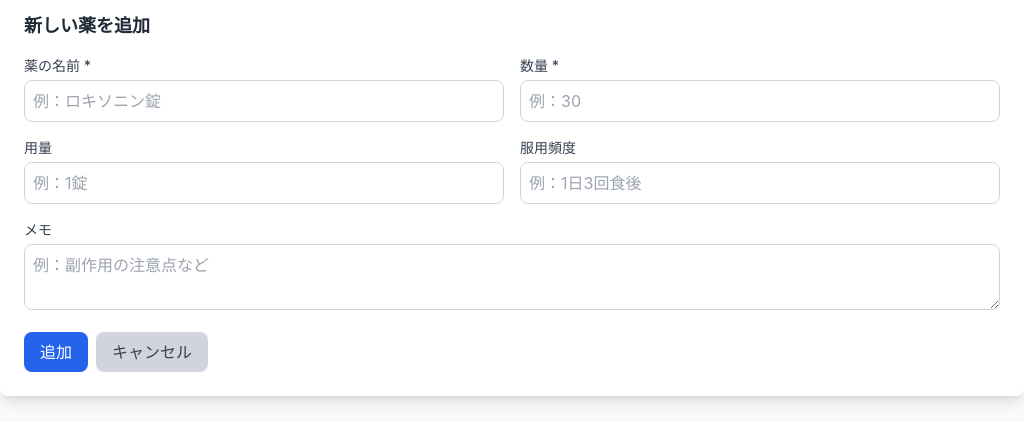
Test: AddMedicineForm › フォーム送信 › 追加成功時にフォームがリセットされる
The width and height of the screenshot is (1024, 422).
// フォームに入力 
Type "テスト薬" into the field with placeholder "例：ロキソニン錠" at point(264, 101), box [24,80,504,122]
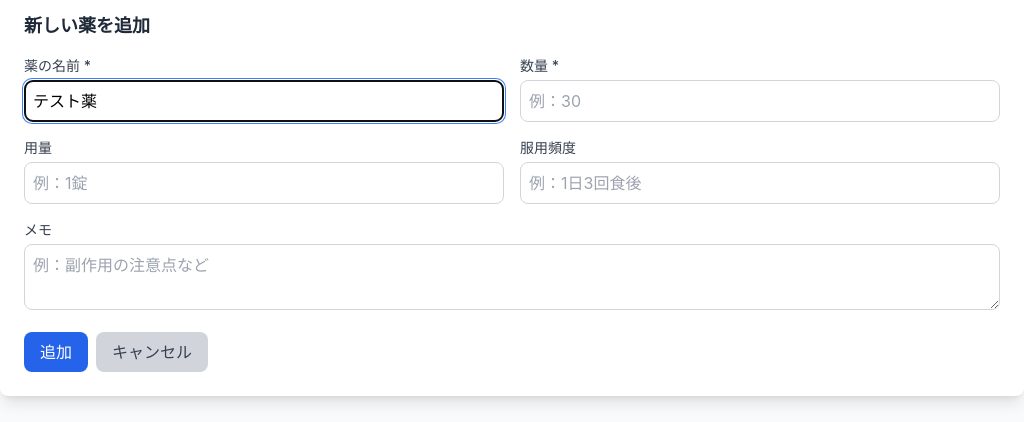
Type "50" into the number field with placeholder "例：30" at point(760, 101), box [520,80,1000,122]
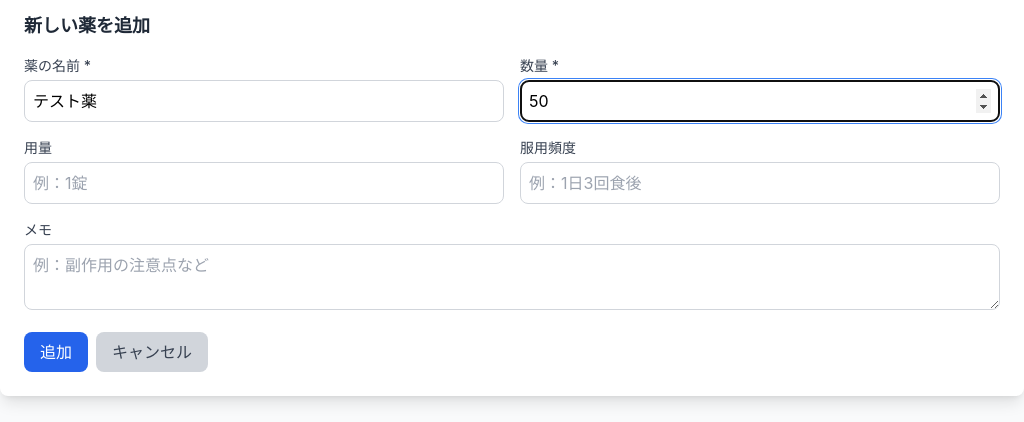
// 追加ボタンをクリック
Click the button "追加" at point(56, 352), box [24,332,88,372]
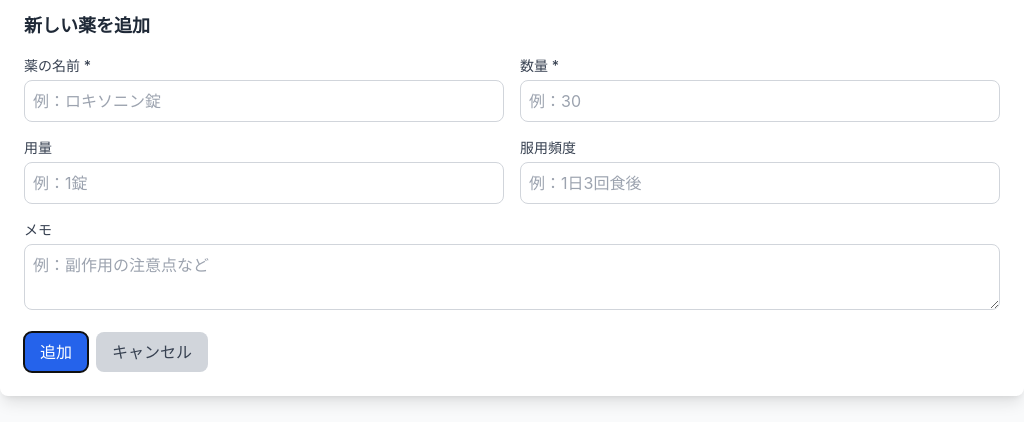
Expected: the field with placeholder "例：ロキソニン錠" is empty, [24,80,504,122]
Expected: the number field with placeholder "例：30" is not empty, [520,80,1000,122]
